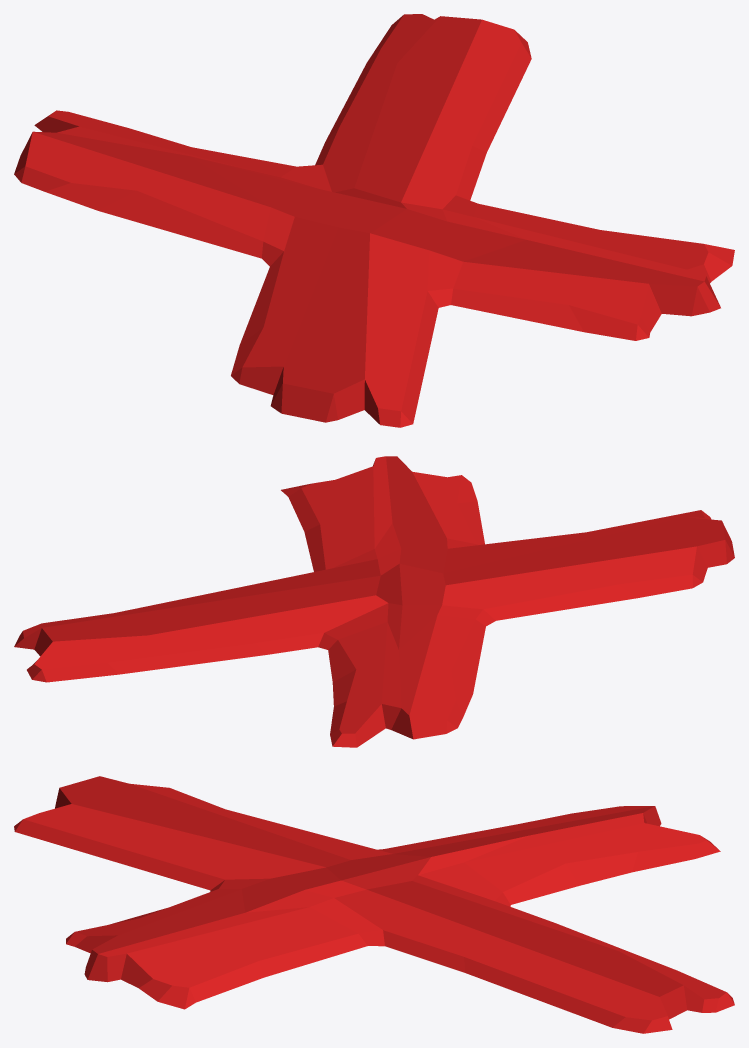
File: cross_mark_volume.fbx
3 renders of one model, top to bottom at view 1: azimuth 30°, elevation 25°; view 2: azimuth 150°, elevation 25°; view 3: azimuth 270°, elevation 25°, orthographic. The views are drawn at different scales.
Visible parts, largest first — view 1: cross_mark; view 2: cross_mark; view 3: cross_mark.
Part boxes in pixels (left/top/right/bottom): cross_mark: left=14, top=14, right=734, bottom=427; cross_mark: left=14, top=456, right=734, bottom=747; cross_mark: left=14, top=776, right=734, bottom=1033.
Size of the model in its own units: 31 by 1.72 by 39.41.
